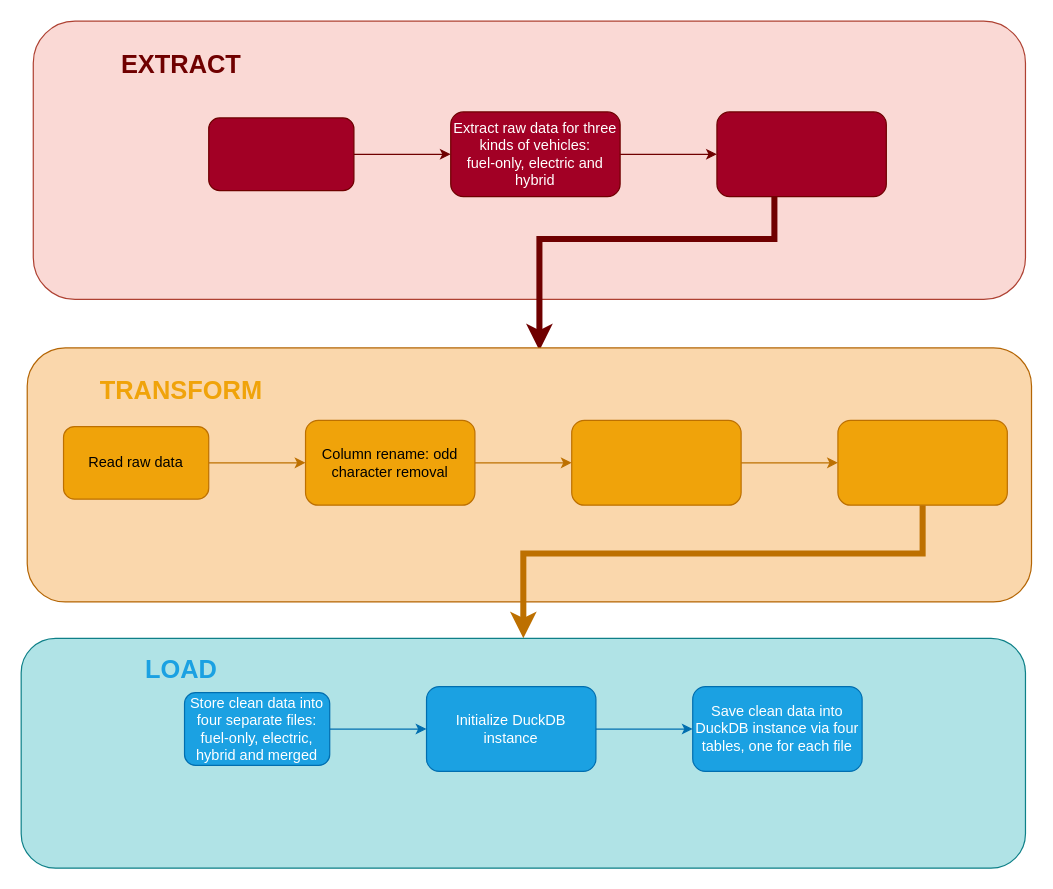
Some shapes in this 1053 by 889 pixel diagram are drawn without their labels. Each missing label, with the box of its shape:
Map categorical variables (internal encoding) to human-readable format: (571, 419, 741, 505)
Merge tables into one: fuel-only, electric, hybrid: (837, 419, 1007, 505)
Open Canada API (CO2 vehicle metadata): (208, 117, 354, 191)
Save raw data into CSV: (716, 111, 886, 197)
